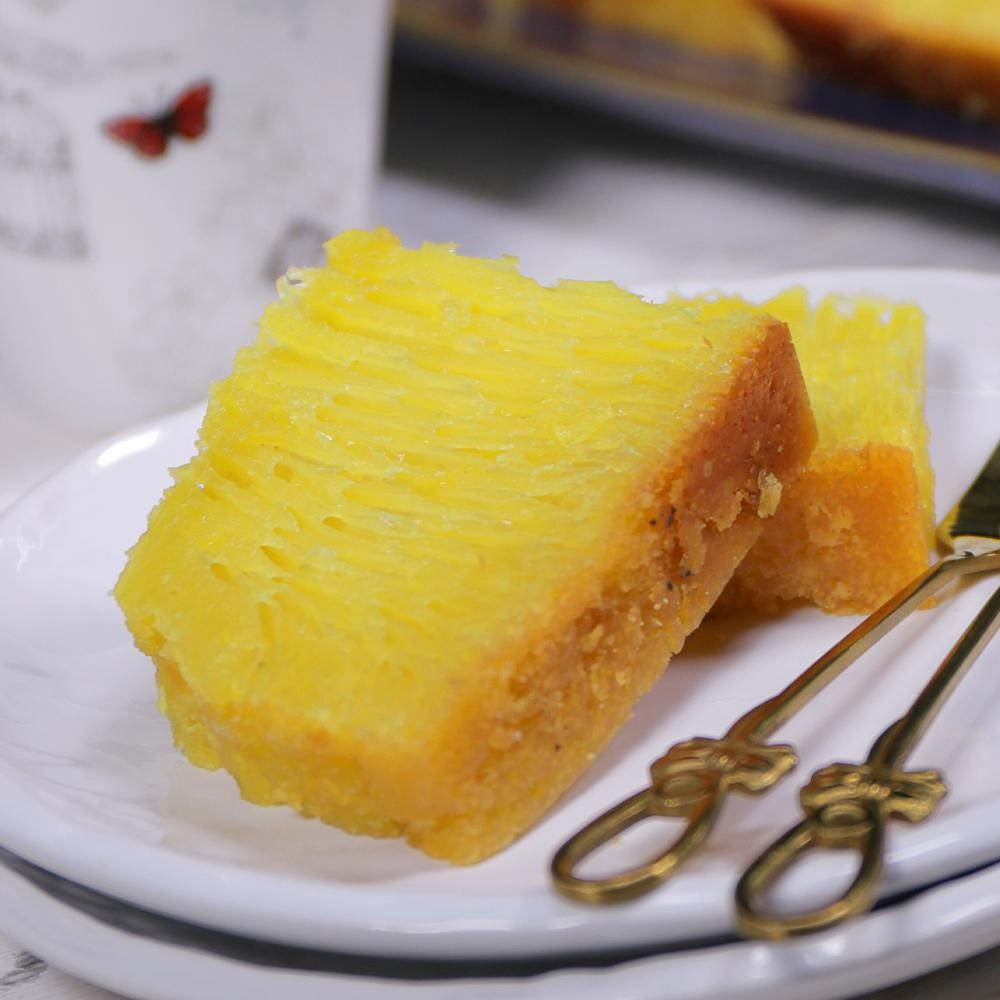bika_ambon: (132, 196, 795, 851)
